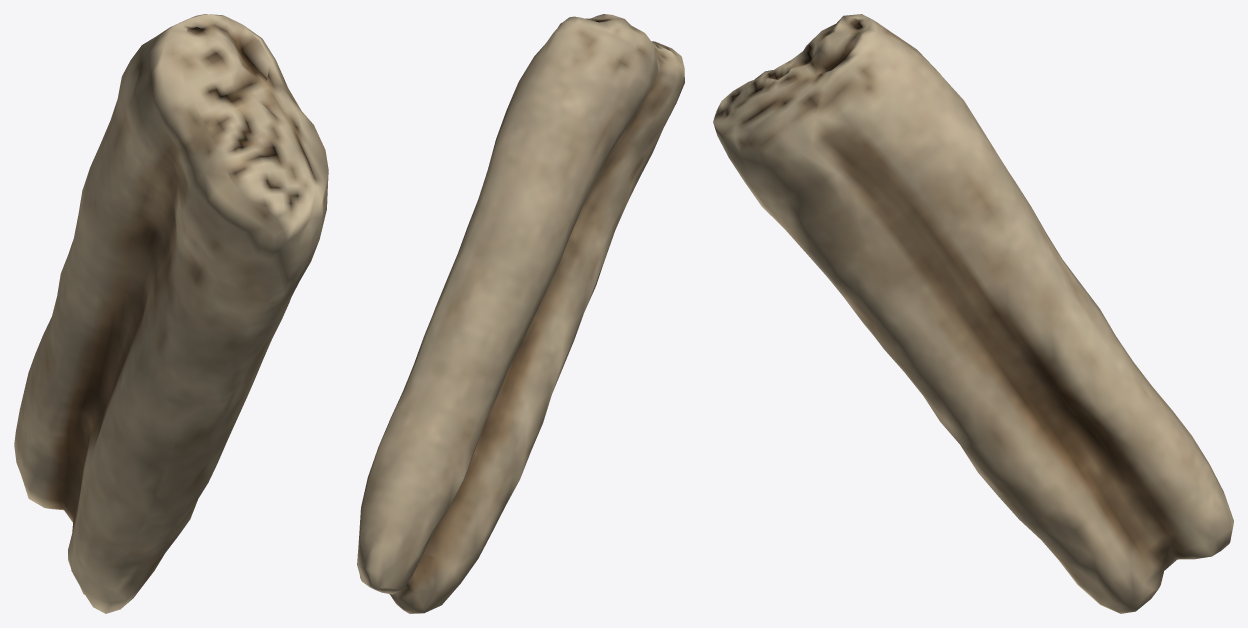
File: Mandibular_Premolar.glb
3 views of the same model, side by side, from view 1: azimuth 30°, elevation 25°; view 2: azimuth 150°, elevation 25°; view 3: azimuth 270°, elevation 25° (orthographic). The views are drawn at different scales.
Parts seen in each view (by area): view 1: Mandibular_Premolar.glb; view 2: Mandibular_Premolar.glb; view 3: Mandibular_Premolar.glb.
Part boxes in pixels (left/top/right/bottom): Mandibular_Premolar.glb: left=14, top=14, right=328, bottom=613; Mandibular_Premolar.glb: left=357, top=14, right=684, bottom=613; Mandibular_Premolar.glb: left=713, top=14, right=1233, bottom=613.
Bounding box in the file's own units: 0.0204 × 0.073 × 0.0618.
1 material, 1 textured.
